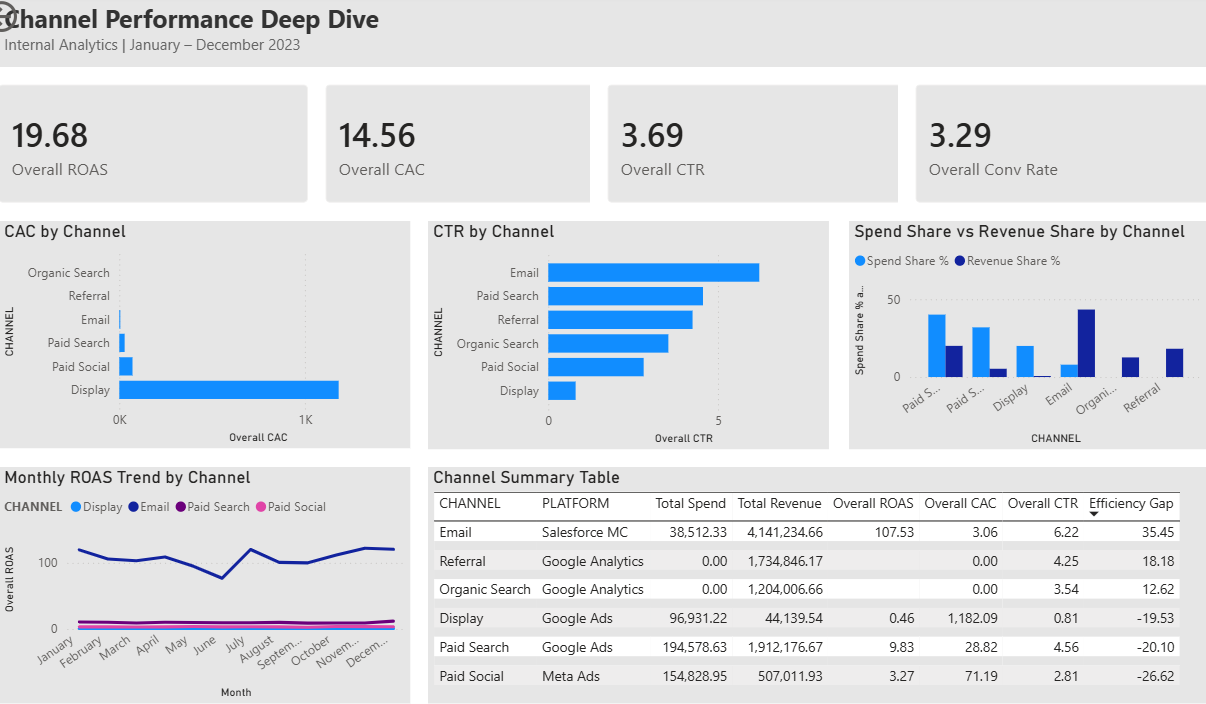

What the dashboard file says about the page in this screenshot:
{"tool":"powerbi","page":{"name":"Channel Deep Dive","canvas":[1280,720],"ordinal":1},"visuals":[{"type":"textbox","box":[17.5,0,1175,88.5],"z":0},{"type":"cardVisual","fields":{"Data":["FACT_CAMPAIGN_PERFORMANCE.Overall ROAS"]},"box":[0,69.1,335.6,149.8],"z":1000},{"type":"cardVisual","fields":{"Data":["FACT_CAMPAIGN_PERFORMANCE.Overall CAC"]},"box":[318.1,69.1,297.6,149.8],"z":2000},{"type":"cardVisual","fields":{"Data":["FACT_CAMPAIGN_PERFORMANCE.Overall CTR"]},"box":[592.3,69.1,321,149.8],"z":3000},{"type":"cardVisual","fields":{"Data":["FACT_CAMPAIGN_PERFORMANCE.Overall Conv Rate"]},"box":[891.9,69.1,321,149.8],"z":4000},{"type":"clusteredBarChart","title":"CAC by Channel","fields":{"Category":["FACT_CAMPAIGN_PERFORMANCE.CHANNEL"],"Y":["FACT_CAMPAIGN_PERFORMANCE.Overall CAC"]},"box":[17.5,218.8,399.8,220.8],"z":5000},{"type":"clusteredBarChart","title":"CTR by Channel","fields":{"Category":["DIM_CHANNEL.CHANNEL"],"Y":["FACT_CAMPAIGN_PERFORMANCE.Overall CTR"]},"box":[434.8,218.8,390,221.8],"z":6000},{"type":"clusteredColumnChart","title":"Spend Share vs Revenue Share by Channel","fields":{"Category":["DIM_CHANNEL.CHANNEL"],"Y":["FACT_CAMPAIGN_PERFORMANCE.Spend Share %","FACT_CAMPAIGN_PERFORMANCE.Revenue Share %"]},"box":[844.3,218.8,348.2,221.8],"z":7000},{"type":"lineChart","title":"Monthly ROAS Trend by Channel","fields":{"Category":["DIM_DATE.MONTH_NAME"],"Y":["FACT_CAMPAIGN_PERFORMANCE.Overall ROAS"],"Series":["DIM_CHANNEL.CHANNEL"]},"box":[17.5,458.1,399.8,229.5],"z":8000},{"type":"tableEx","title":"Channel Summary Table","fields":{"Values":["DIM_CHANNEL.CHANNEL","DIM_CHANNEL.PLATFORM","FACT_CAMPAIGN_PERFORMANCE.Total Spend","FACT_CAMPAIGN_PERFORMANCE.Total Revenue","FACT_CAMPAIGN_PERFORMANCE.Overall ROAS","FACT_CAMPAIGN_PERFORMANCE.Overall CAC","FACT_CAMPAIGN_PERFORMANCE.Overall CTR","FACT_CAMPAIGN_PERFORMANCE.Efficiency Gap"]},"box":[434.8,458.1,757.7,229.5],"z":9000},{"type":"actionButton","box":[0,0,100,40],"z":10000}]}

Visuals, with their boxes on the page's 1280x720 design canvas (x1, y1, x2, y2). These are canvas units, not pixel positions in the 1206x704 screenshot, which may show the page scaled, cropped or inside an application window:
textbox: bbox=[18, 0, 1192, 88]
cardVisual - FACT_CAMPAIGN_PERFORMANCE.Overall ROAS: bbox=[0, 69, 336, 219]
cardVisual - FACT_CAMPAIGN_PERFORMANCE.Overall CAC: bbox=[318, 69, 616, 219]
cardVisual - FACT_CAMPAIGN_PERFORMANCE.Overall CTR: bbox=[592, 69, 913, 219]
cardVisual - FACT_CAMPAIGN_PERFORMANCE.Overall Conv Rate: bbox=[892, 69, 1213, 219]
"CAC by Channel" clusteredBarChart: bbox=[18, 219, 417, 440]
"CTR by Channel" clusteredBarChart: bbox=[435, 219, 825, 441]
"Spend Share vs Revenue Share by Channel" clusteredColumnChart: bbox=[844, 219, 1192, 441]
"Monthly ROAS Trend by Channel" lineChart: bbox=[18, 458, 417, 688]
"Channel Summary Table" tableEx: bbox=[435, 458, 1192, 688]
actionButton: bbox=[0, 0, 100, 40]
